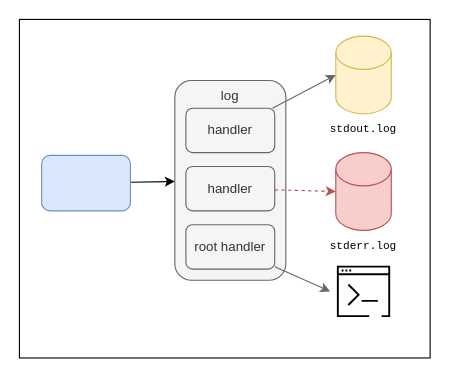
The diagram is 450 pixels wide and 377 high, and some of its shapes have lost their labels. The shapes that lost their labels are listed below. From the top down, each one's centre as x and y in pixels, then its label:
At pixel 85 182: "log event".
At pixel 363 291: "console".
